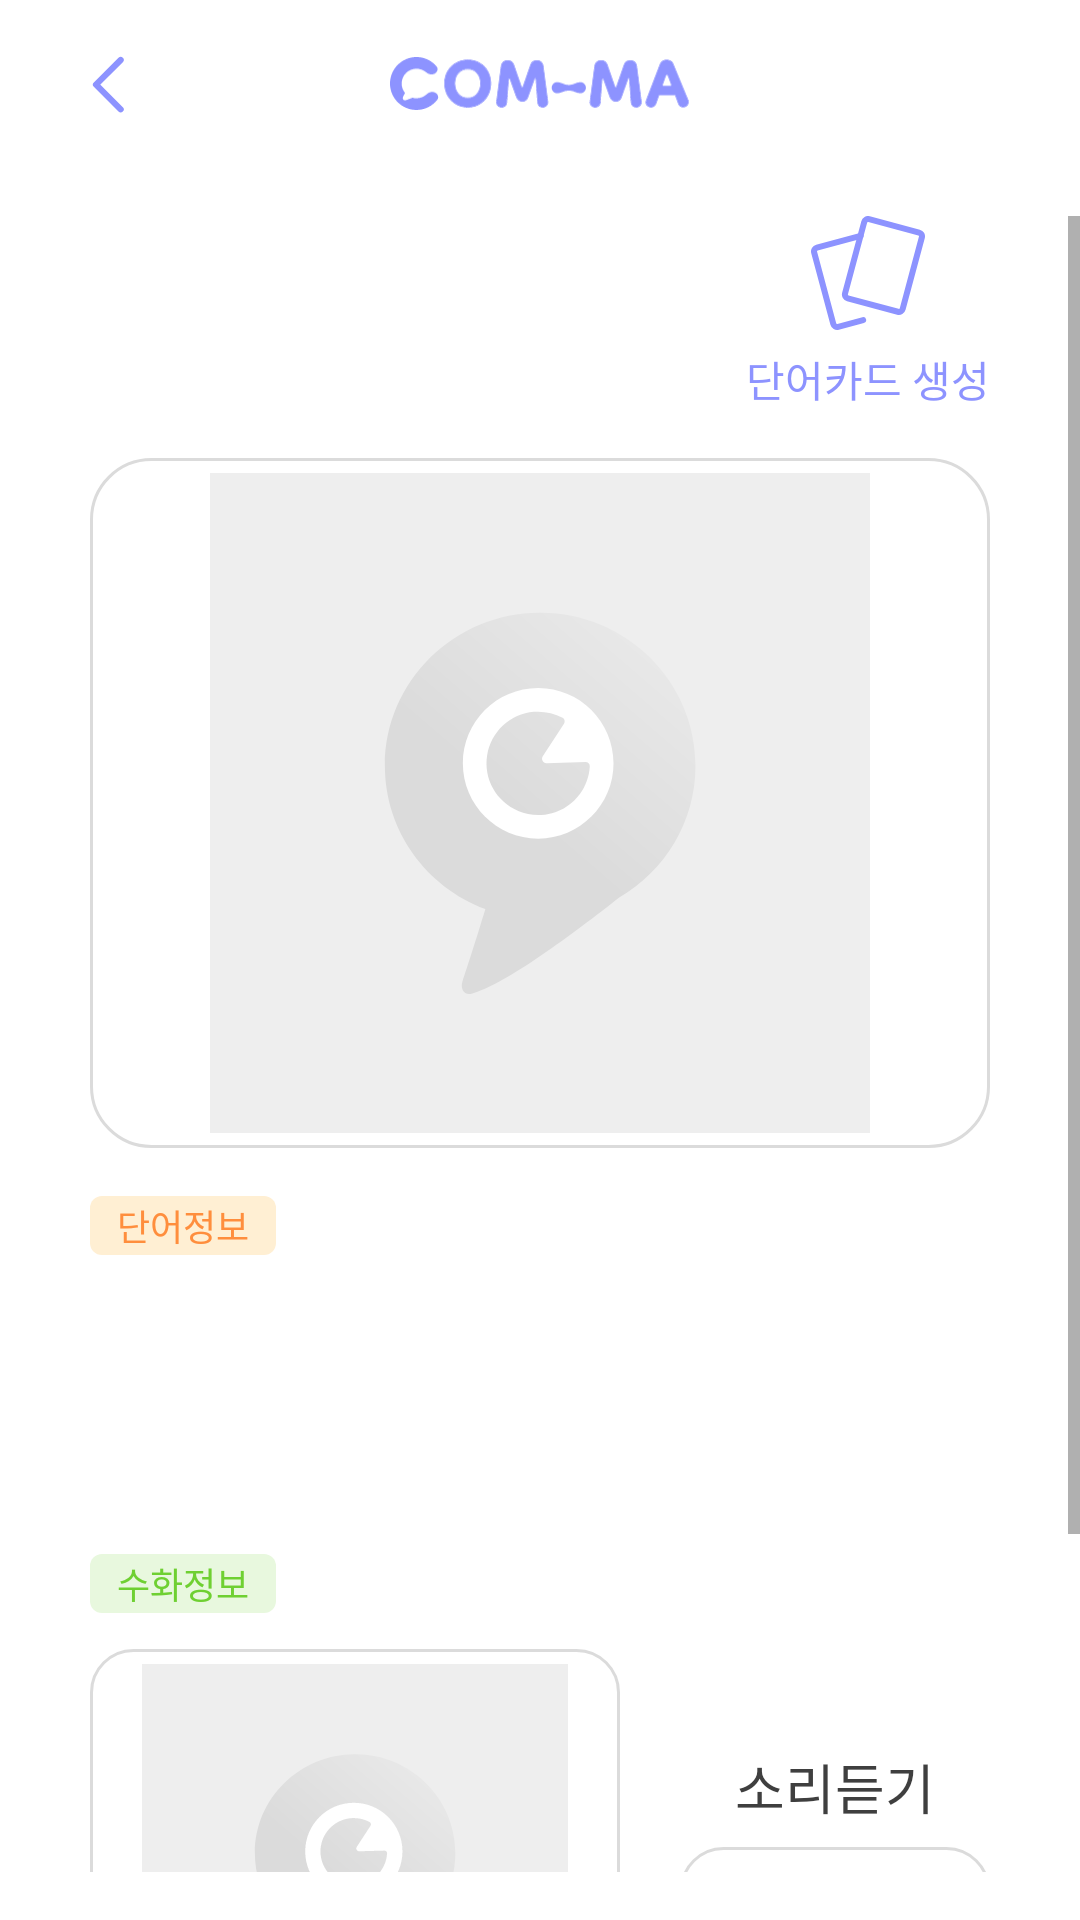

Icons on this 1080*1920 Android screen, each with its box as BBox(x1, y1, x2, y2):
arrow left: BBox(93, 57, 124, 113)
